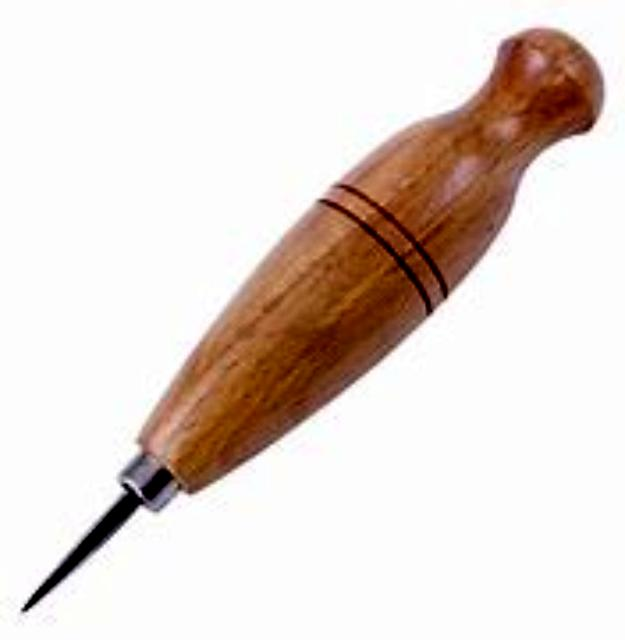ice pick: (22, 21, 604, 618)
